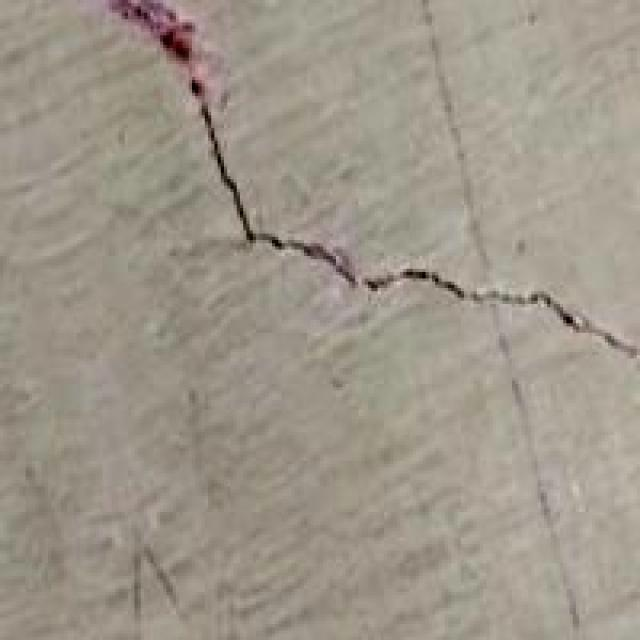crack: (94, 0, 640, 362)
